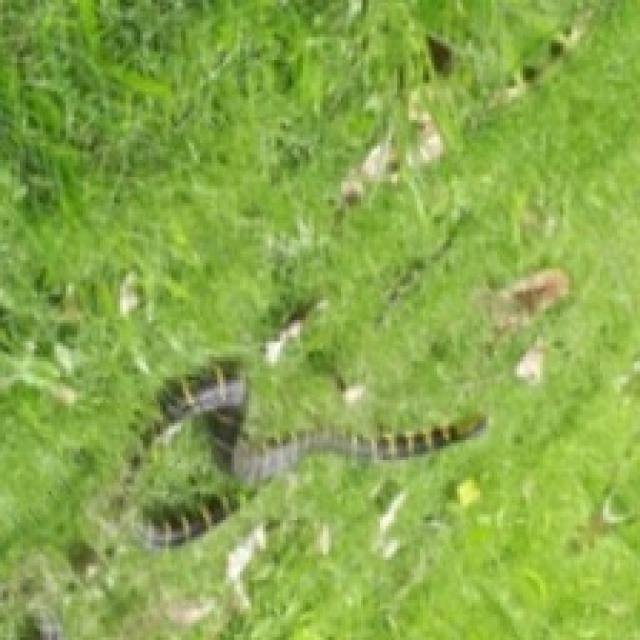mangrove cat snake: (106, 363, 483, 546)
